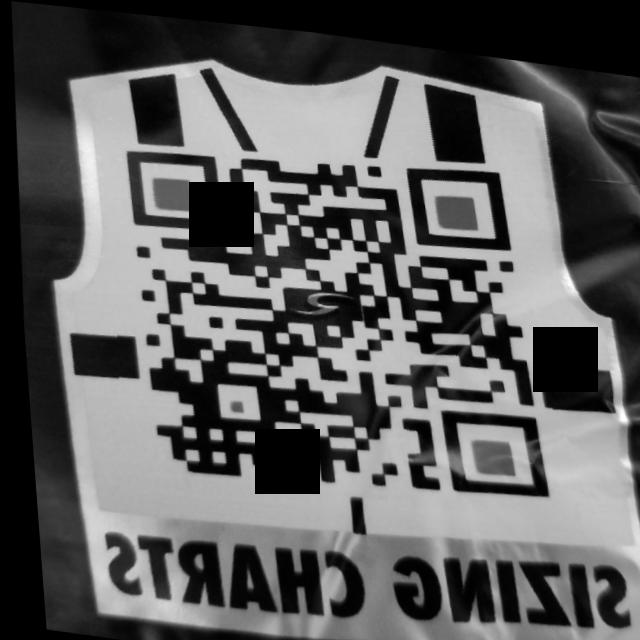QR_CODE: (93, 97, 563, 528)
